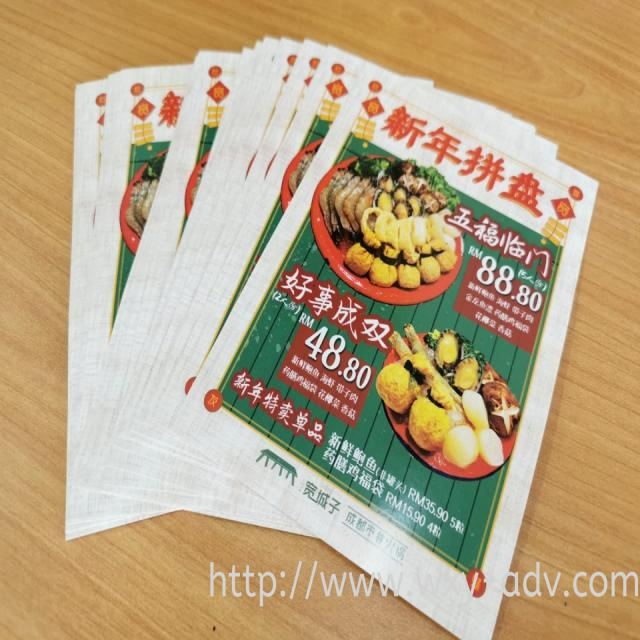paper: (66, 42, 594, 634)
